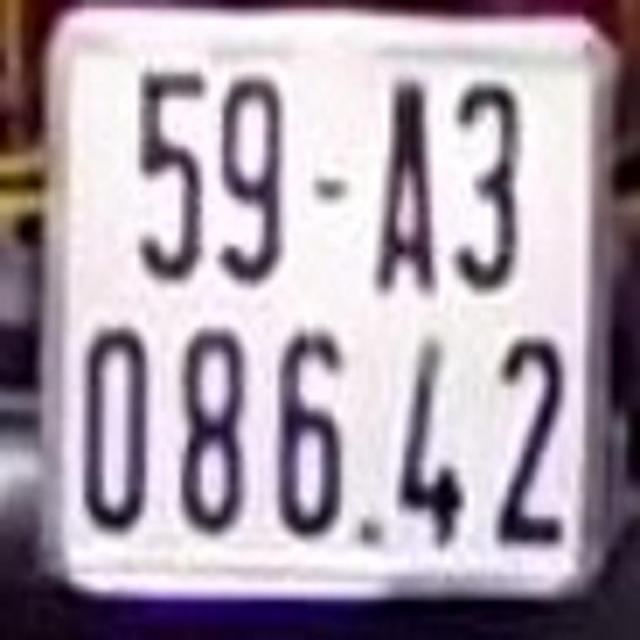0: (78, 319, 149, 530)
2: (493, 328, 571, 546)
3: (448, 72, 524, 301)
4: (385, 323, 468, 544)
5: (130, 62, 210, 286)
6: (273, 321, 347, 537)
8: (177, 320, 247, 531)
9: (215, 64, 288, 296)
A: (372, 63, 442, 307)
